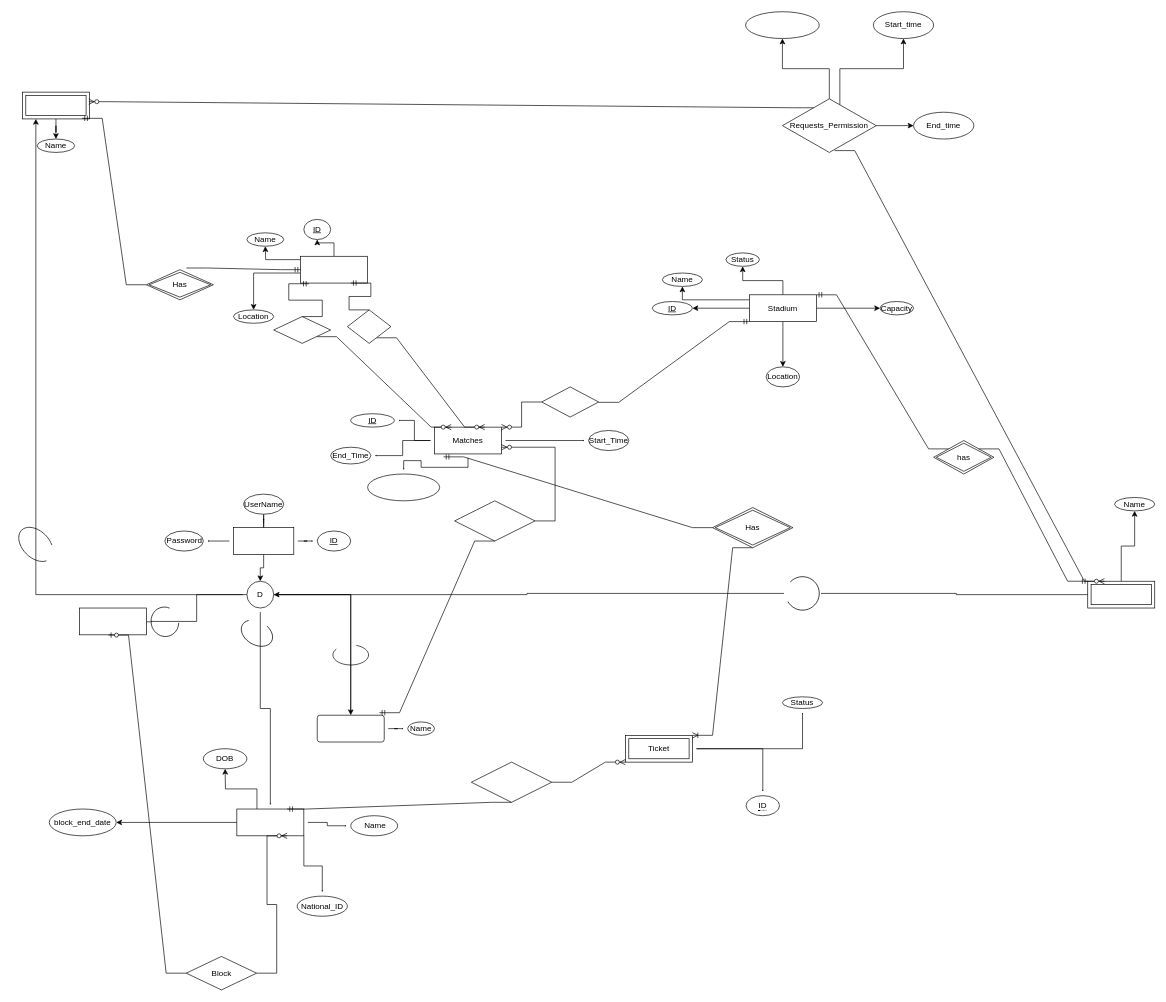
Some shapes in this 1166 by 1002 pixel diagram are drawn without their labels. The shapes that lost their labels are listed below. From the top down, each one's box as (x1, y1, x2, y2) in pixels, then its label:
(745, 11, 819, 39): Permission_Status
(22, 91, 89, 119): Representative
(300, 256, 367, 283): Clubs
(273, 316, 331, 343): Host
(347, 309, 391, 343): Guest
(541, 386, 599, 417): Played_in
(367, 473, 440, 501): Allowed_Attendees
(233, 527, 294, 554): User
(454, 500, 535, 541): Managed by
(1087, 581, 1155, 608): Manager
(79, 607, 146, 635): System Admin
(317, 715, 384, 742): Associative Manager
(471, 761, 552, 802): Owns
(236, 808, 304, 836): Fan
